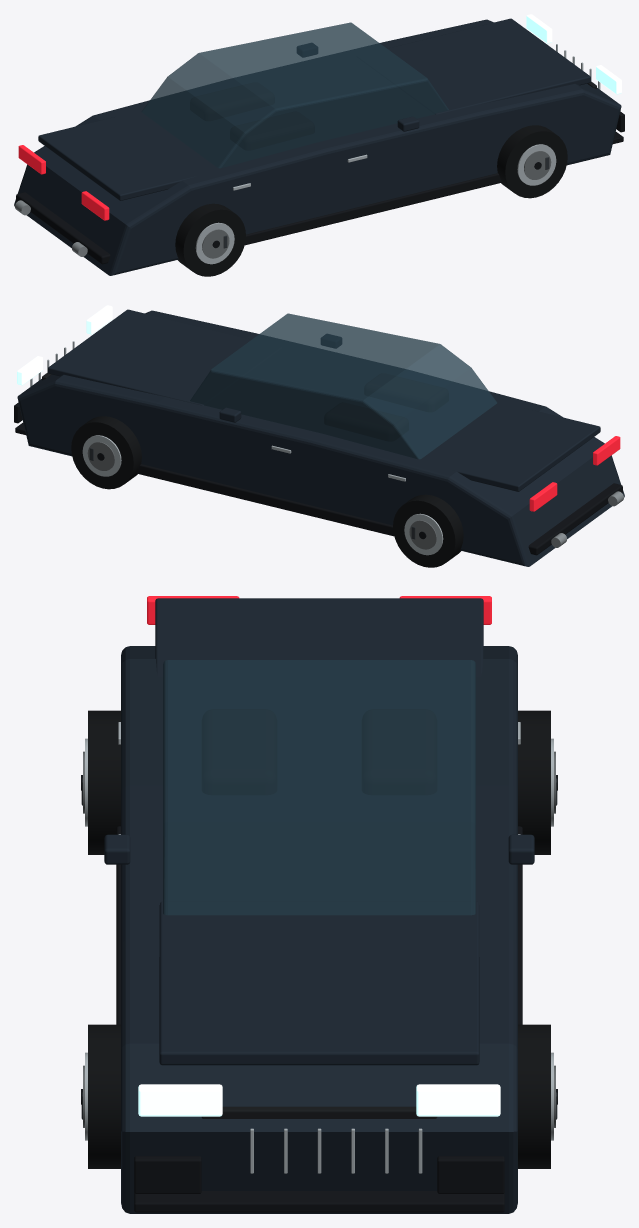
File: rr_sweptail.glb
The picture shows the model from 3 angles, top to bottom: view 1: azimuth 30°, elevation 25°; view 2: azimuth 150°, elevation 25°; view 3: azimuth 270°, elevation 25°; orthographic projection. The views are drawn at different scales.
Parts seen in each view (by area): view 1: sculpted_body, glasshouse, hood_center, rear_deck, side_skirt_1, rear_right_wheel_tire, front_right_wheel_tire, seat_1, seat_-1, rear_diffuser, front_right_wheel_rim, rear_right_wheel_rim (+6 smaller); view 2: sculpted_body, glasshouse, hood_center, rear_deck, side_skirt_-1, rear_left_wheel_tire, front_left_wheel_tire, seat_-1, seat_1, rear_diffuser, front_left_wheel_rim, rear_left_wheel_rim (+6 smaller); view 3: sculpted_body, glasshouse, hood_center, rear_deck, front_splitter, seat_-1, seat_1, front_left_wheel_tire, front_right_wheel_tire, rear_left_wheel_tire, rear_right_wheel_tire, headlight_left (+6 smaller).
Part boxes in pixels (left/top/right/bottom): sculpted_body: left=14, top=19, right=621, bottom=275; glasshouse: left=141, top=22, right=448, bottom=168; hood_center: left=357, top=18, right=590, bottom=114; rear_deck: left=38, top=116, right=200, bottom=200; side_skirt_1: left=244, top=173, right=502, bottom=245; rear_right_wheel_tire: left=175, top=203, right=245, bottom=276; front_right_wheel_tire: left=497, top=125, right=567, bottom=198; seat_1: left=230, top=112, right=314, bottom=149; seat_-1: left=190, top=83, right=274, bottom=120; rear_diffuser: left=16, top=192, right=110, bottom=264; front_right_wheel_rim: left=517, top=144, right=556, bottom=185; rear_right_wheel_rim: left=195, top=222, right=234, bottom=264; sculpted_body: left=17, top=310, right=624, bottom=566; glasshouse: left=190, top=313, right=497, bottom=459; hood_center: left=48, top=309, right=281, bottom=405; rear_deck: left=438, top=407, right=600, bottom=491; side_skirt_-1: left=136, top=464, right=394, bottom=536; rear_left_wheel_tire: left=393, top=494, right=463, bottom=567; front_left_wheel_tire: left=71, top=416, right=141, bottom=489; seat_-1: left=324, top=403, right=408, bottom=440; seat_1: left=364, top=374, right=448, bottom=411; rear_diffuser: left=528, top=483, right=622, bottom=555; front_left_wheel_rim: left=82, top=435, right=121, bottom=476; rear_left_wheel_rim: left=404, top=513, right=443, bottom=555; sculpted_body: left=121, top=646, right=517, bottom=1213; glasshouse: left=163, top=660, right=475, bottom=915; hood_center: left=159, top=901, right=479, bottom=1065; rear_deck: left=155, top=598, right=483, bottom=676; front_splitter: left=134, top=1191, right=504, bottom=1212; seat_-1: left=362, top=709, right=436, bottom=794; seat_1: left=202, top=709, right=276, bottom=794; front_left_wheel_tire: left=518, top=1024, right=550, bottom=1168; front_right_wheel_tire: left=88, top=1024, right=120, bottom=1168; rear_left_wheel_tire: left=518, top=710, right=550, bottom=854; rear_right_wheel_tire: left=88, top=710, right=120, bottom=854; headlight_left: left=416, top=1084, right=500, bottom=1116.
Bounding box in the file's own units: 6.18 × 1.47 × 2.38.
